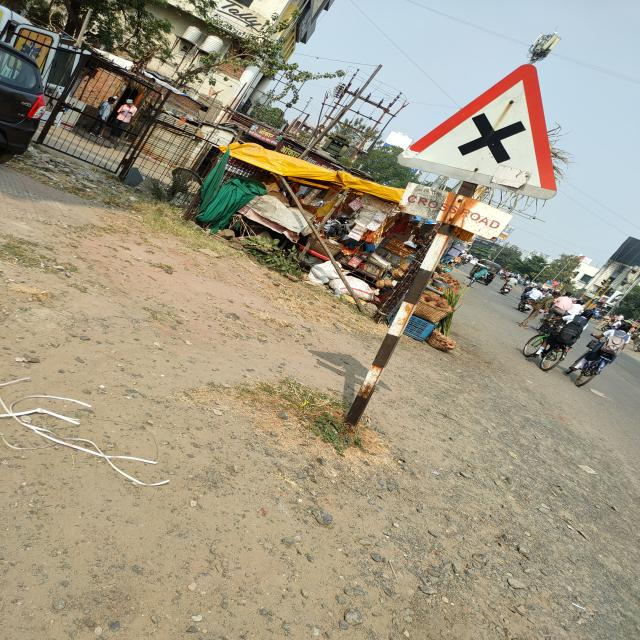cross_road: (392, 59, 572, 206)
